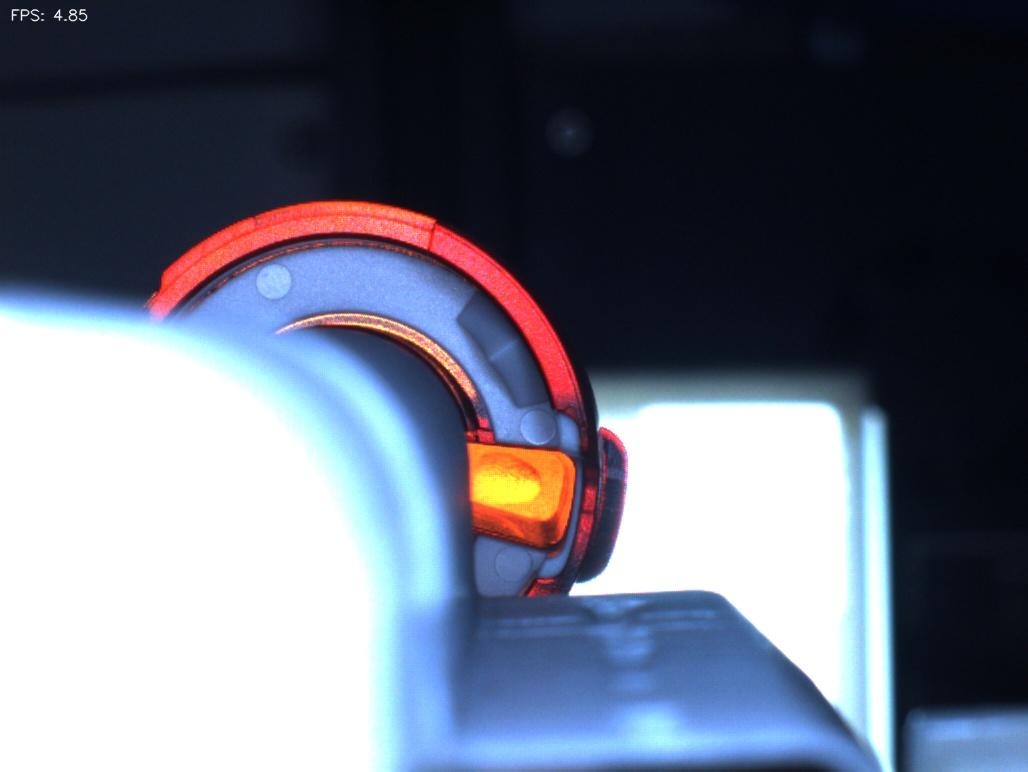Retassure: (463, 448, 556, 519)
